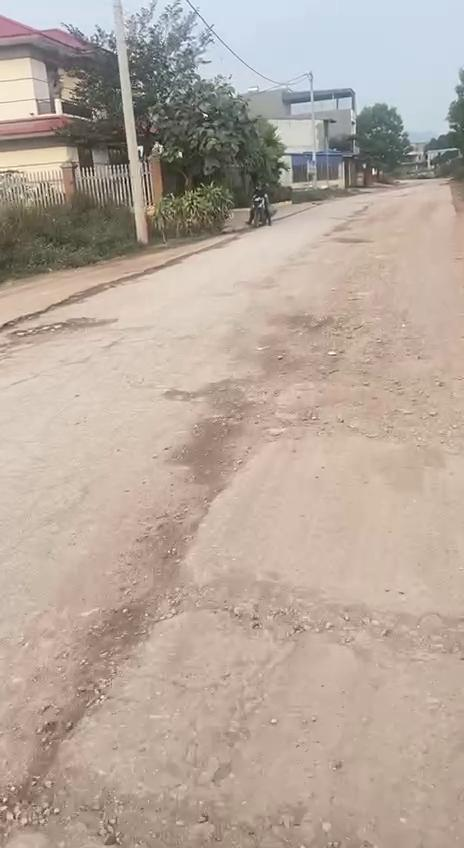pothole: (138, 550, 464, 669), (8, 744, 320, 848), (204, 378, 384, 446), (7, 310, 106, 342)
